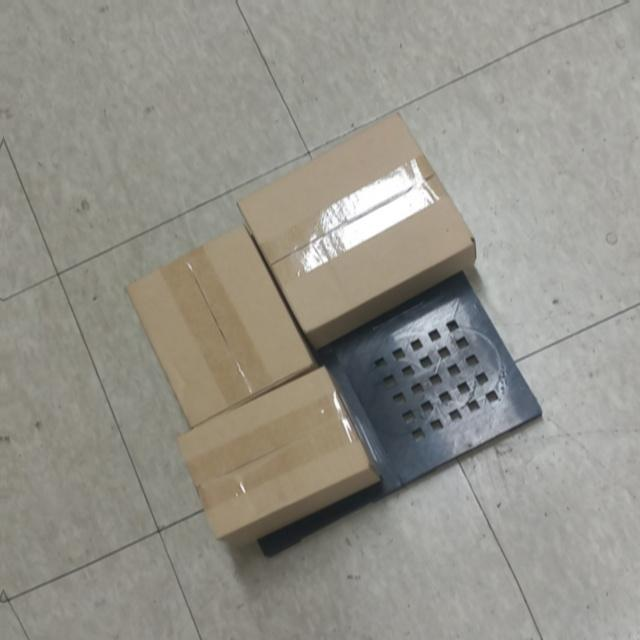box: (229, 97, 483, 349), (159, 357, 388, 546), (118, 222, 316, 432)
